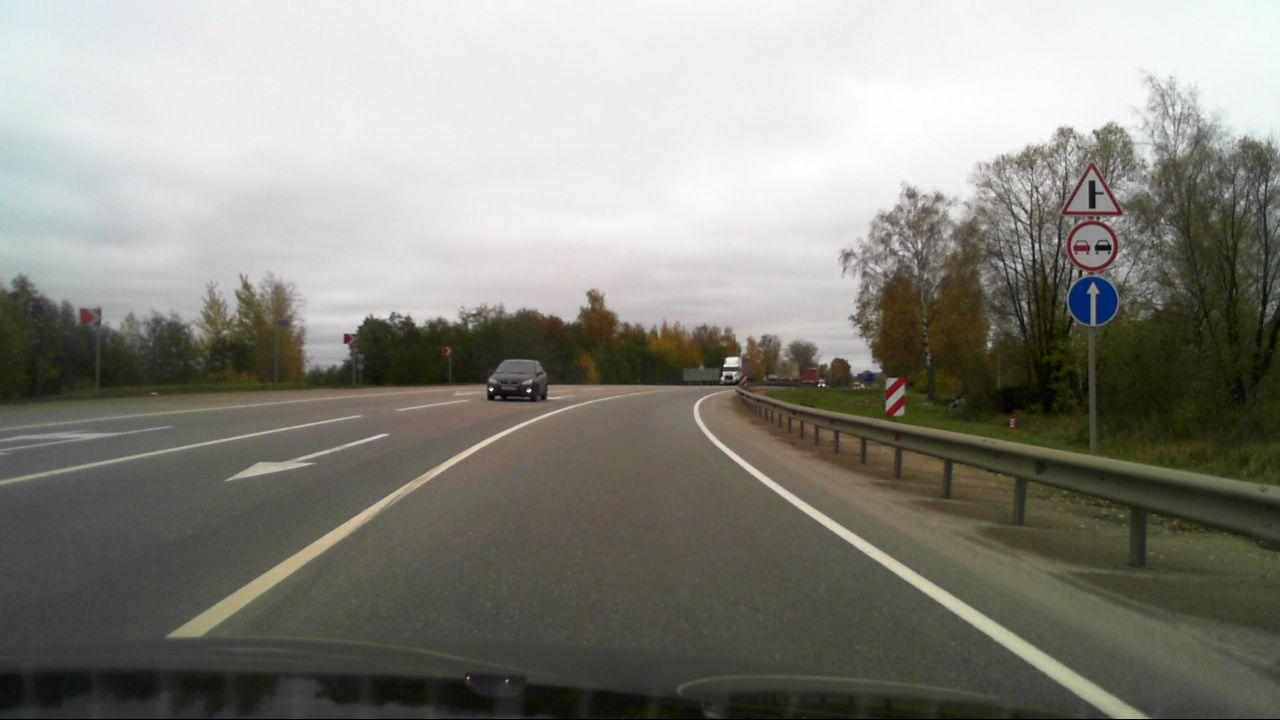2_3_2: (1063, 162, 1120, 217)
3_20: (1066, 219, 1119, 274)
4_1_1: (1067, 274, 1119, 328)
8_22_2: (882, 374, 910, 420)
